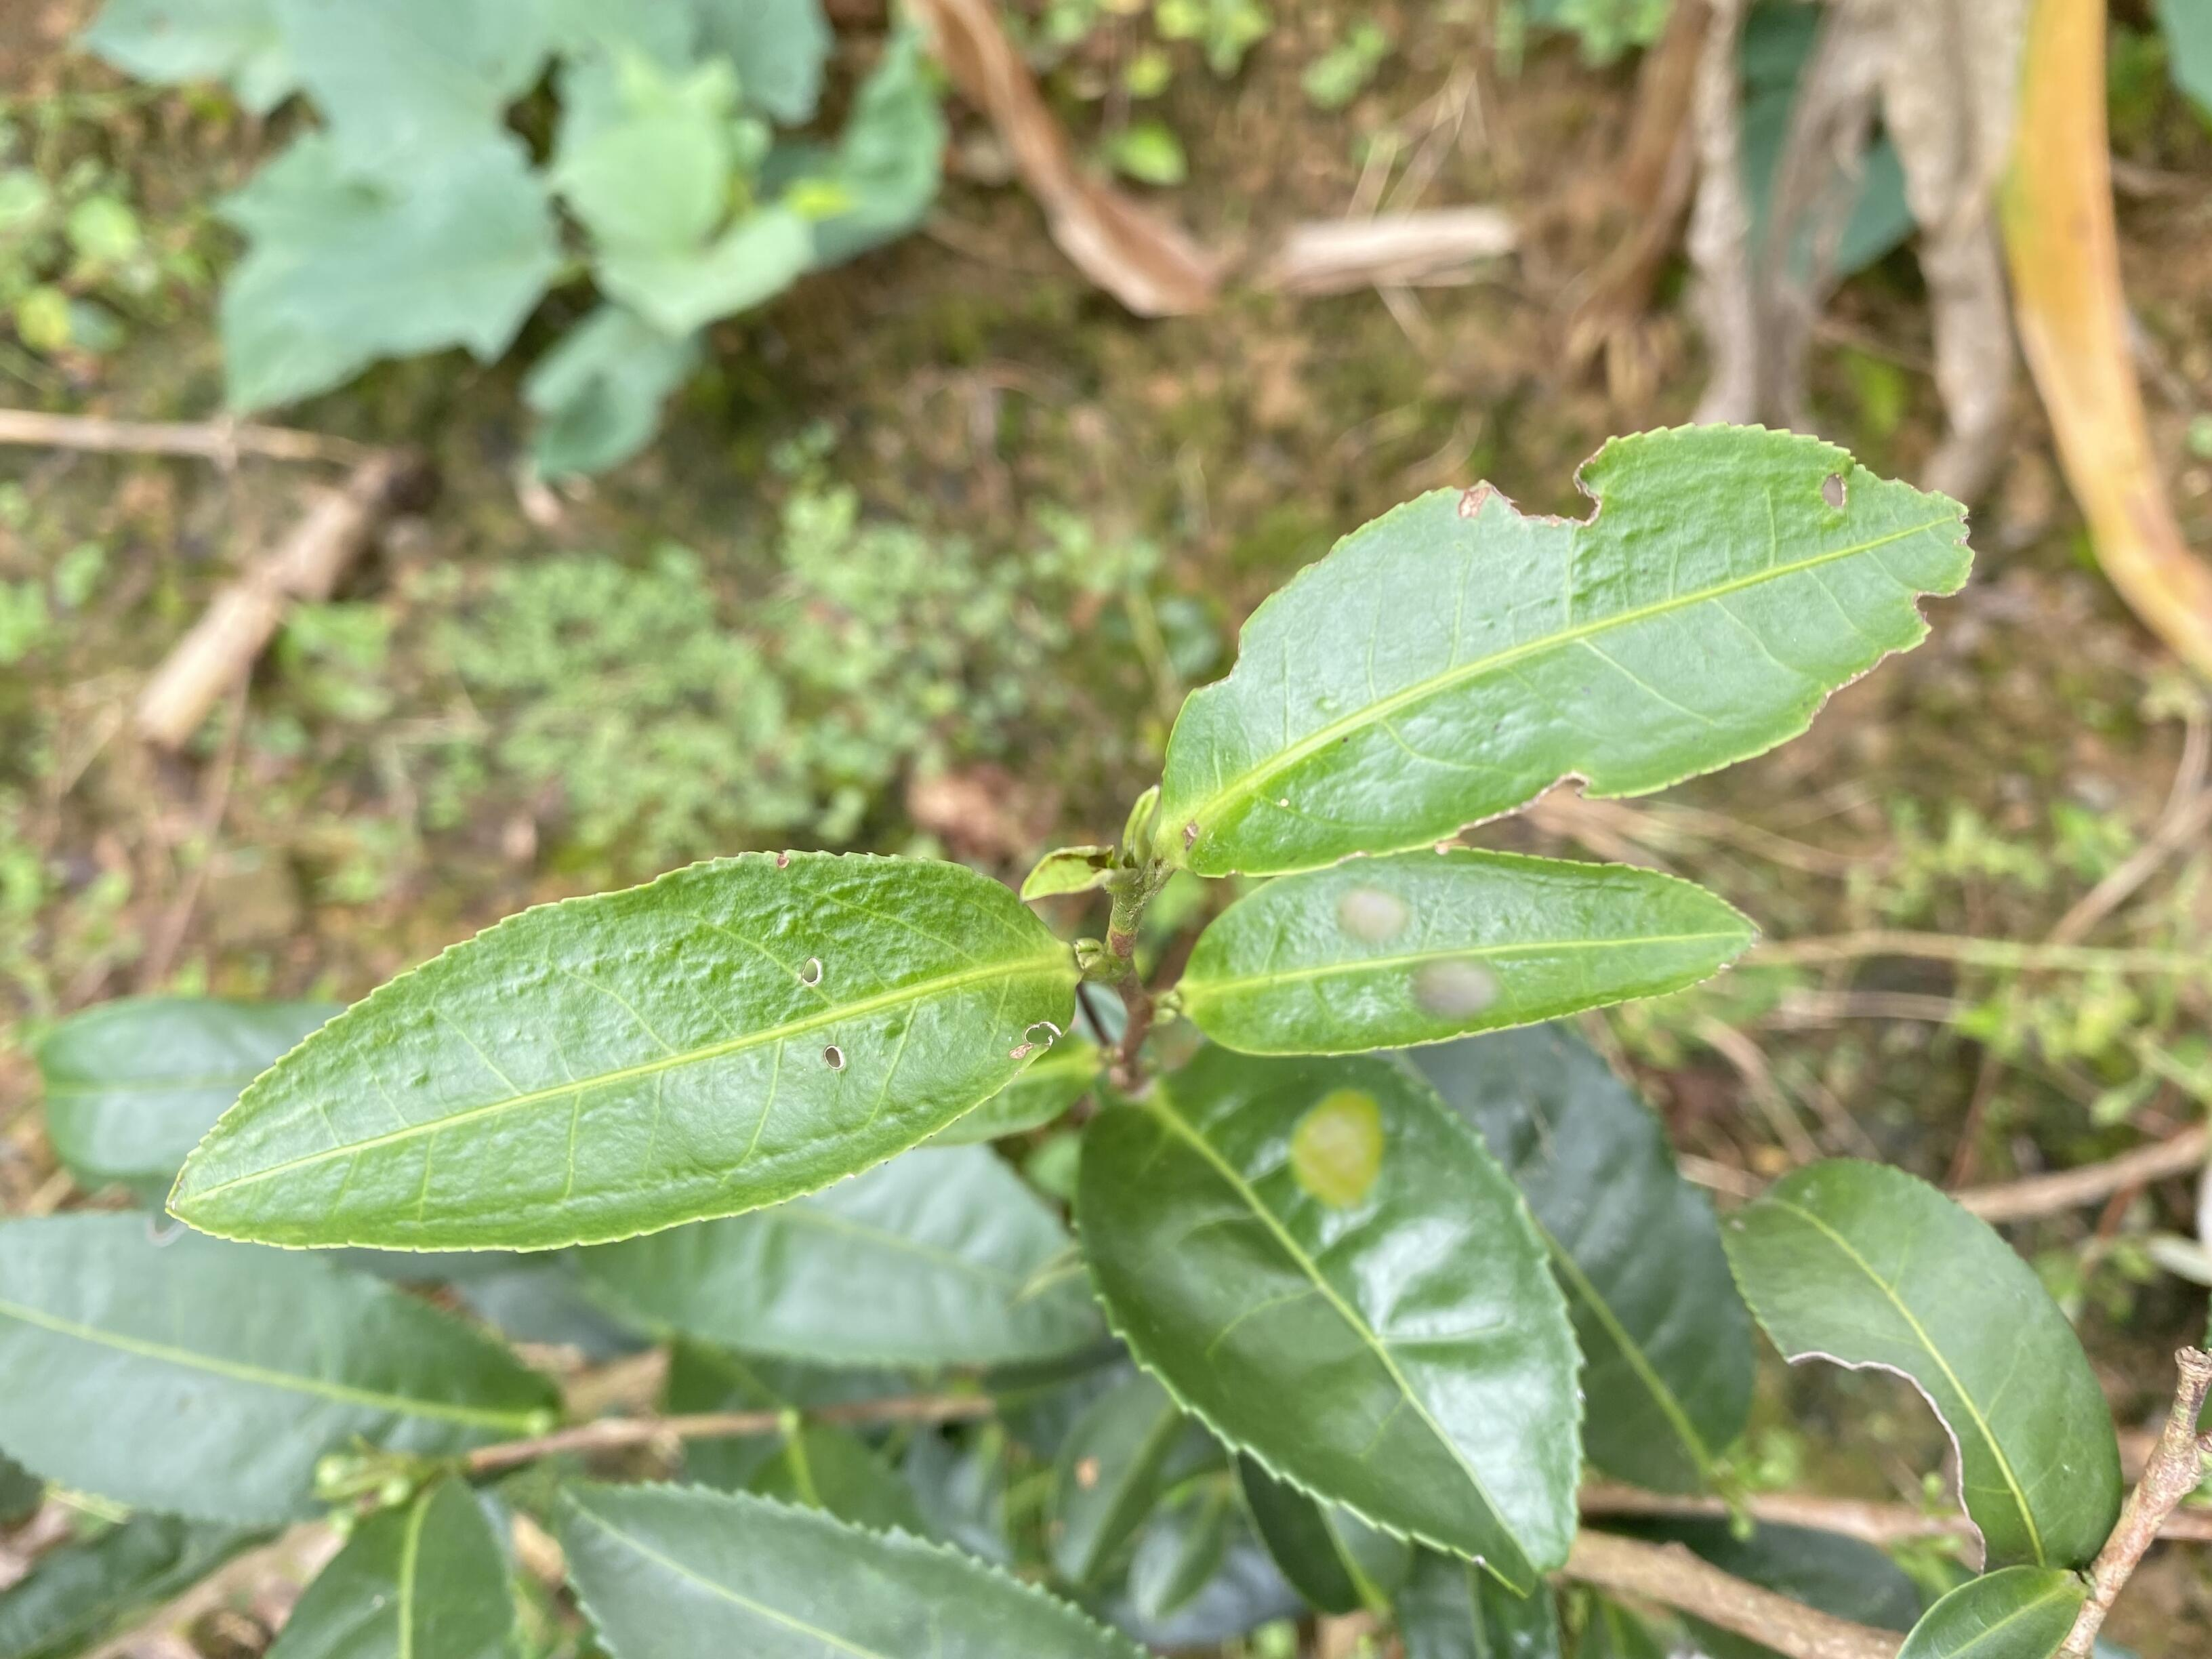chabing_high: (1186, 847, 1766, 1061)
chabing_low: (1082, 1042, 1588, 1598)
chihuo_high: (1150, 422, 1982, 885), (164, 850, 1083, 1255)
chihuo_low: (1719, 1157, 2123, 1577)
